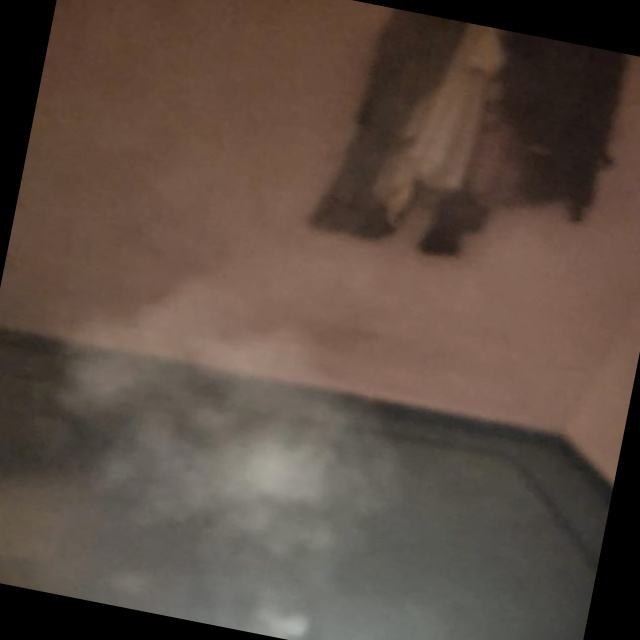smoke: (133, 295, 381, 537)
